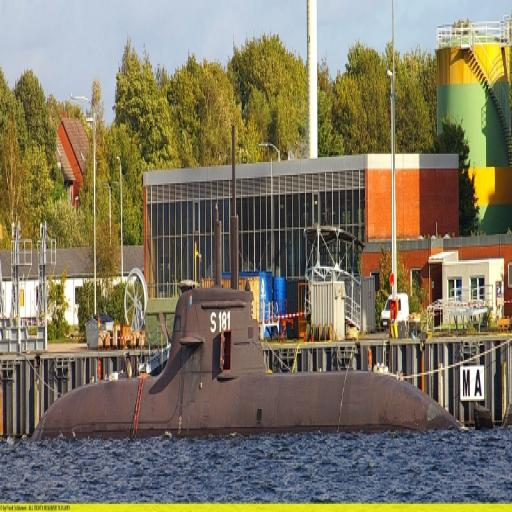submarine: (22, 289, 470, 428)
